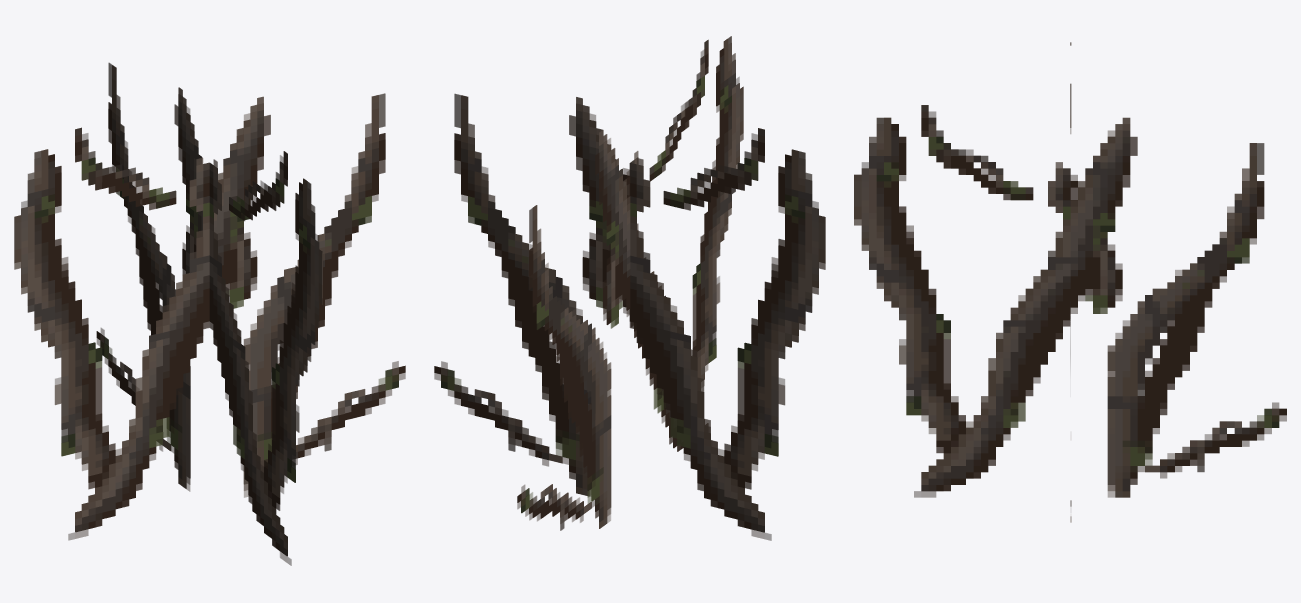
Rendered from roots.glb.
3 views of the same model, side by side, from view 1: azimuth 30°, elevation 25°; view 2: azimuth 150°, elevation 25°; view 3: azimuth 270°, elevation 25° (orthographic). The views are drawn at different scales.
Parts seen in each view (by area): view 1: roots; view 2: roots; view 3: roots.
Boxes of the visible parts, left/top/right/bottom form: roots: left=14, top=62, right=405, bottom=565; roots: left=434, top=36, right=825, bottom=540; roots: left=854, top=42, right=1286, bottom=522.
Bounding box in the file's own units: 0.6 × 0.6 × 0.6.
Materials: 1 (1 with a texture image).
